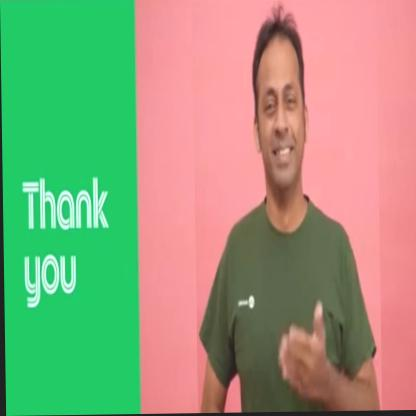ThankYou: (192, 0, 381, 414)
